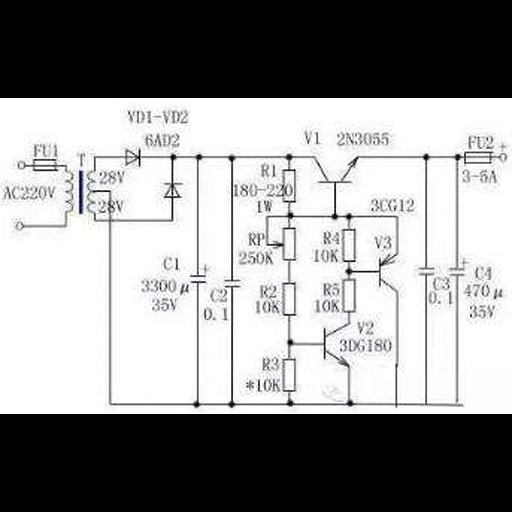capacitor: (222, 274, 243, 289), (416, 264, 435, 278)
firstpolarcapacitor: (187, 261, 212, 285), (448, 256, 471, 278)
firstresistance: (279, 280, 301, 319), (280, 165, 300, 207), (340, 276, 361, 316), (281, 355, 300, 395), (341, 227, 360, 263)
fuse: (29, 157, 61, 175), (462, 150, 495, 166)
npn: (314, 319, 357, 372), (309, 150, 363, 188)
pnp: (371, 250, 403, 296)
seconddiode: (157, 179, 185, 202), (121, 146, 145, 170)
transformer: (63, 164, 97, 224)
